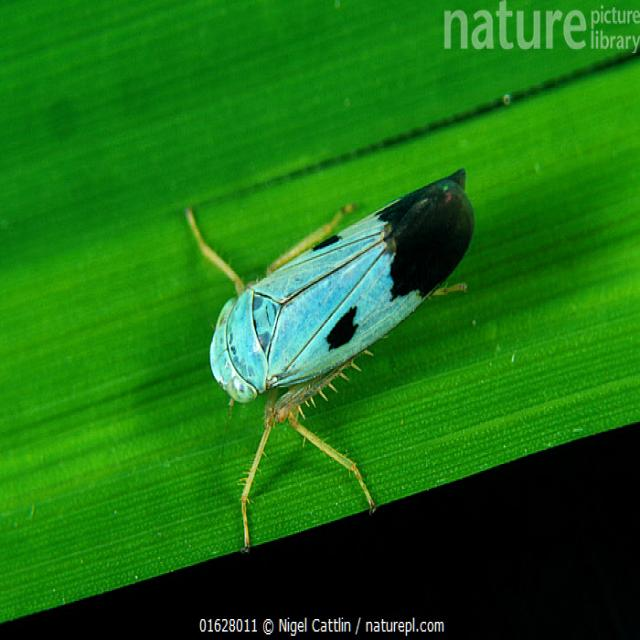Yechan: (169, 166, 492, 454)
